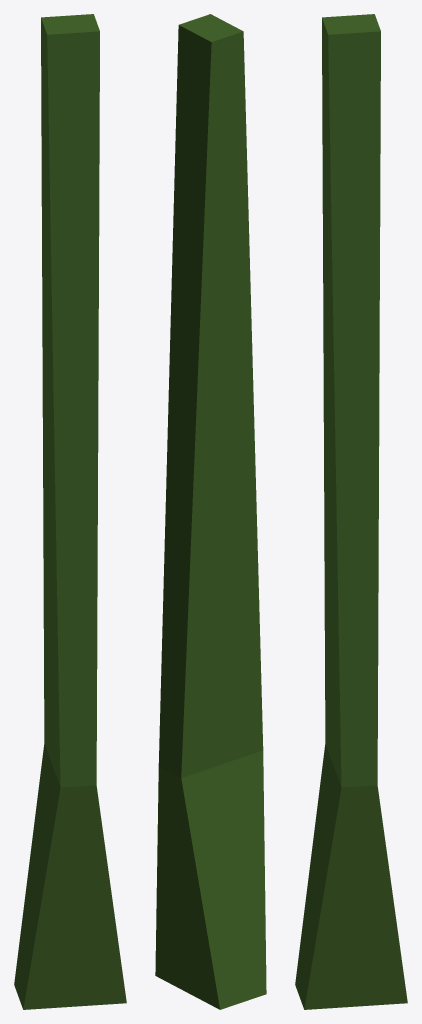
Rendered from Natures2g4-green.fbx.
3 views of the same model, side by side, from view 1: azimuth 90°, elevation 25°; view 2: azimuth 210°, elevation 25°; view 3: azimuth 270°, elevation 25° (orthographic).
Visible parts, largest first — view 1: g4-green; view 2: g4-green; view 3: g4-green.
Boxes of the visible parts, bbox=[...] form: g4-green: bbox=[14, 14, 126, 1009]; g4-green: bbox=[155, 14, 266, 1009]; g4-green: bbox=[295, 14, 407, 1009].
Size of the model in its own units: 19.62 by 189 by 19.96.
